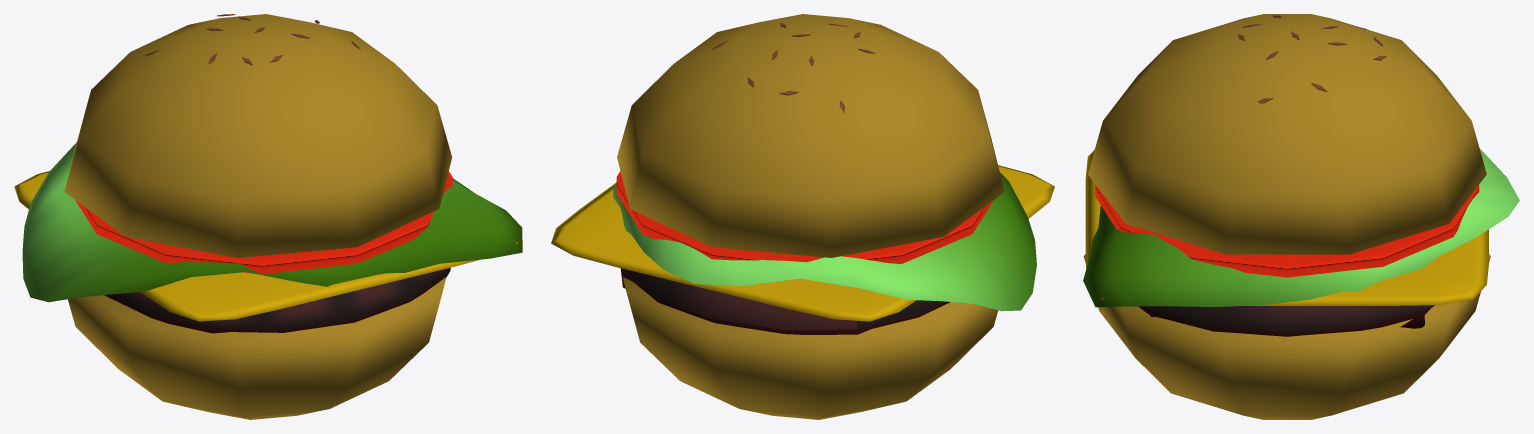
The model's file is Supermarket_Run_Hamburger.fbx.
3 renders of one model, left to right at view 1: azimuth 30°, elevation 25°; view 2: azimuth 150°, elevation 25°; view 3: azimuth 270°, elevation 25°, orthographic.
Visible parts, largest first — view 1: Supermarket_Run_Hamburger_Top, Supermarket_Run_Hamburger_Top.001, Supermarket_Run_Lattuce, Supermarket_Run_Cheddar, Supermarket_Run_Meatball, Supermarket_Run_Tomato; view 2: Supermarket_Run_Hamburger_Top, Supermarket_Run_Hamburger_Top.001, Supermarket_Run_Lattuce, Supermarket_Run_Cheddar, Supermarket_Run_Meatball, Supermarket_Run_Tomato, Supermarket_Run_Sessame; view 3: Supermarket_Run_Hamburger_Top, Supermarket_Run_Hamburger_Top.001, Supermarket_Run_Lattuce, Supermarket_Run_Cheddar, Supermarket_Run_Meatball, Supermarket_Run_Tomato, Supermarket_Run_Sessame.
Part boxes in pixels (x1,y1,x2,y2): Supermarket_Run_Hamburger_Top: [64, 14, 452, 257]; Supermarket_Run_Hamburger_Top.001: [68, 277, 446, 419]; Supermarket_Run_Lattuce: [22, 142, 522, 302]; Supermarket_Run_Cheddar: [14, 171, 517, 321]; Supermarket_Run_Meatball: [104, 267, 450, 333]; Supermarket_Run_Tomato: [75, 171, 452, 274]; Supermarket_Run_Hamburger_Top: [617, 14, 1004, 257]; Supermarket_Run_Hamburger_Top.001: [620, 268, 998, 419]; Supermarket_Run_Lattuce: [613, 172, 1036, 311]; Supermarket_Run_Cheddar: [551, 165, 1054, 321]; Supermarket_Run_Meatball: [621, 268, 950, 334]; Supermarket_Run_Tomato: [616, 171, 993, 263]; Supermarket_Run_Sessame: [712, 22, 875, 113]; Supermarket_Run_Hamburger_Top: [1088, 14, 1486, 254]; Supermarket_Run_Hamburger_Top.001: [1083, 254, 1490, 419]; Supermarket_Run_Lattuce: [1083, 148, 1519, 307]; Supermarket_Run_Cheddar: [1085, 150, 1488, 305]; Supermarket_Run_Meatball: [1138, 305, 1434, 336]; Supermarket_Run_Tomato: [1095, 184, 1479, 277]; Supermarket_Run_Sessame: [1238, 15, 1386, 103].
Bounding box in the file's own units: 270 × 231 × 249.
